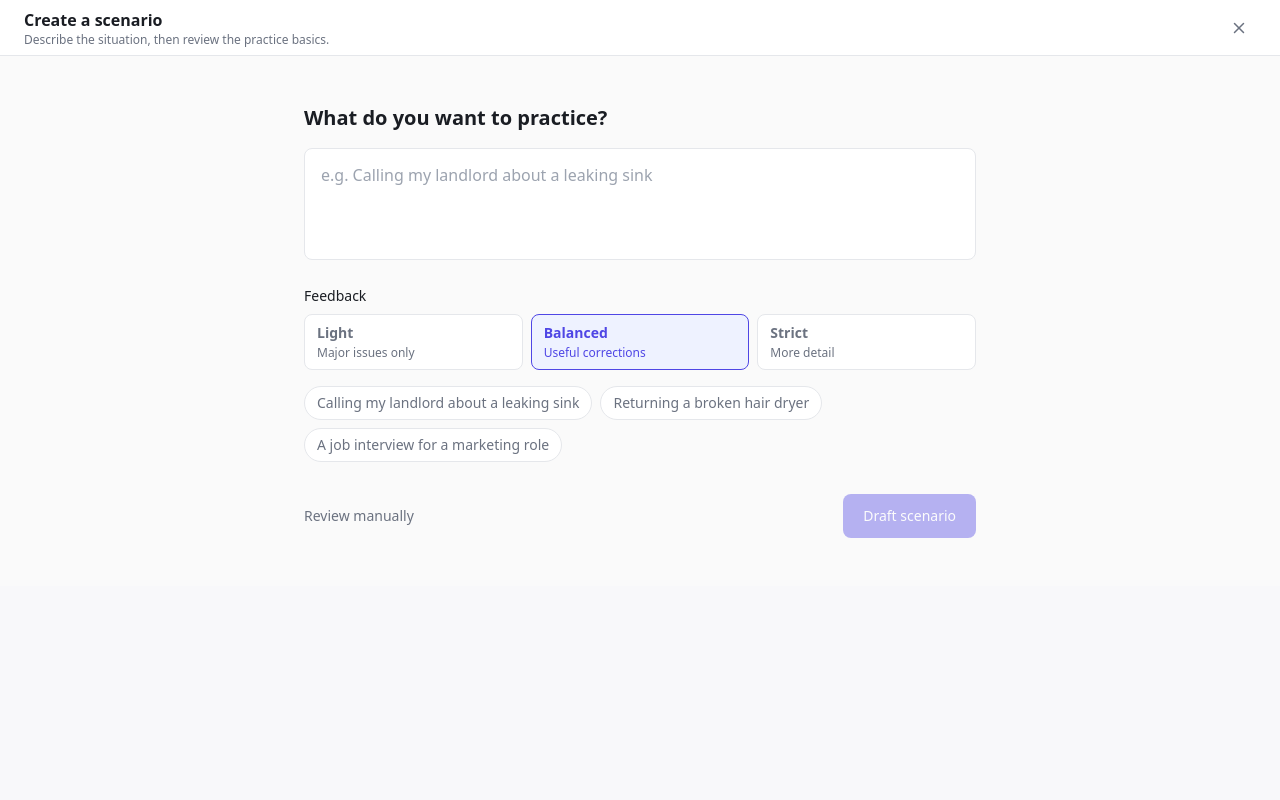
CustomScenarioForm › keeps prompt scaffolding out of the review step
Click the button "Calling my landlord about a leaking sink" at (448, 403), box x1=304 y1=386 x2=592 y2=420
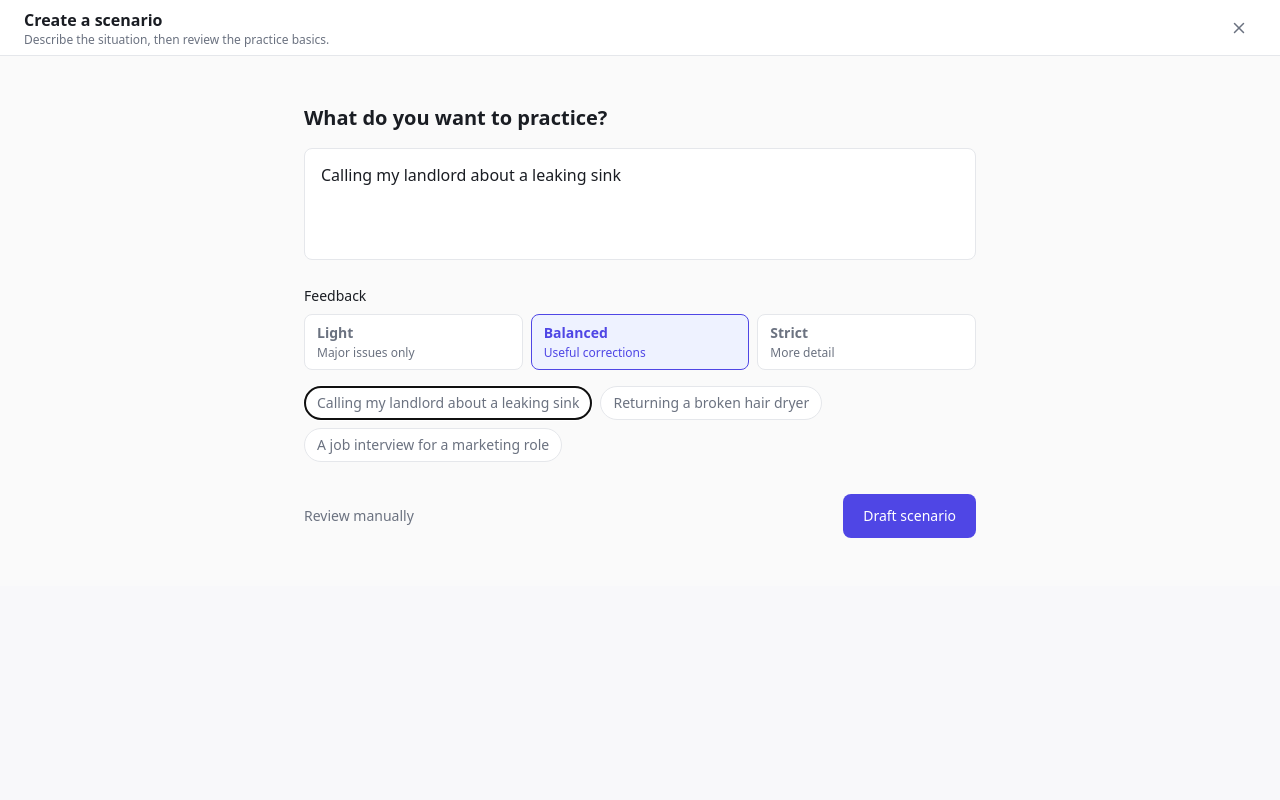
Click the button "Draft scenario" at (910, 516), box x1=843 y1=494 x2=976 y2=538
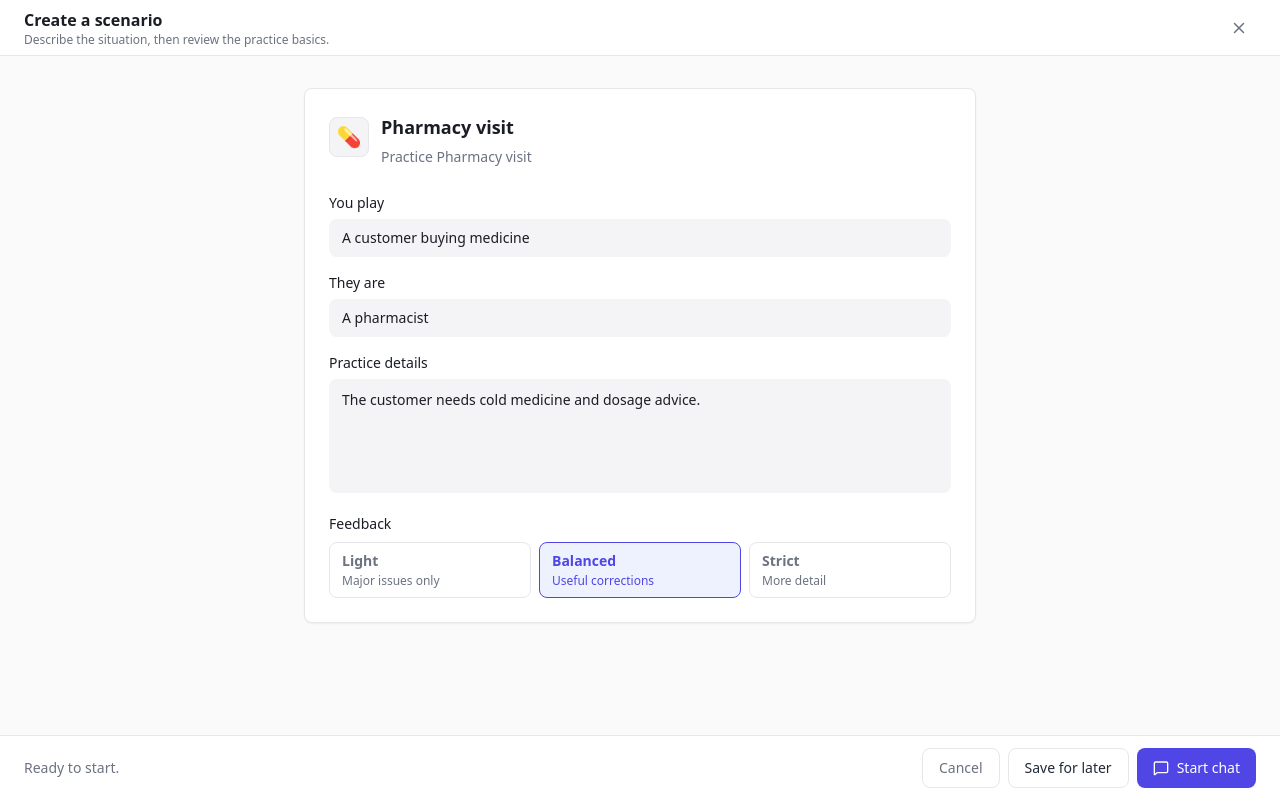
Now the heading "Pharmacy visit" is shown, box x1=381 y1=113 x2=532 y2=141
